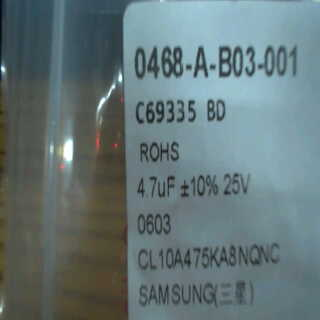4.7uF: (134, 170, 178, 202)
